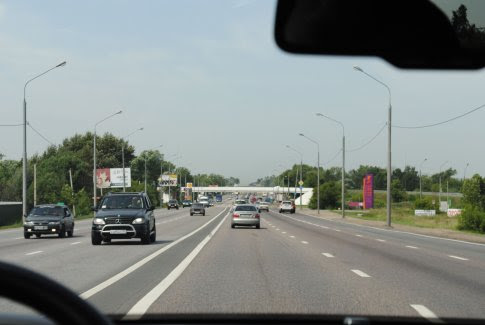car: (86, 188, 155, 243), (17, 199, 76, 242), (228, 199, 263, 232), (276, 200, 296, 215), (189, 201, 205, 218)
